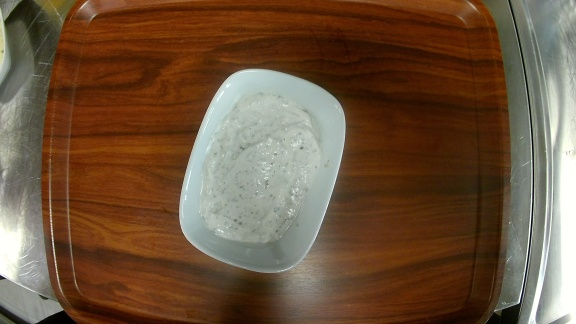haydari: (179, 68, 347, 274)
